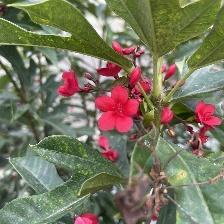jatropha: (92, 83, 144, 137), (193, 96, 224, 131), (58, 66, 84, 102), (99, 60, 126, 83)
